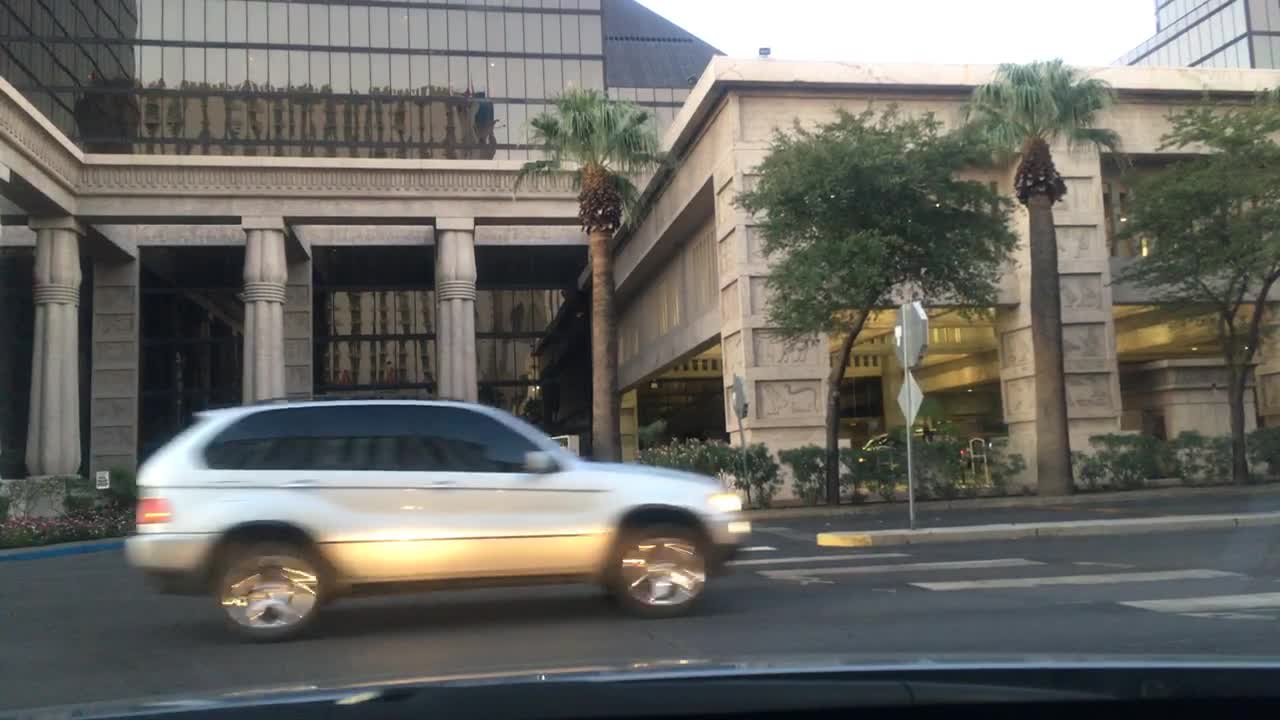car: (123, 391, 753, 642), (860, 431, 971, 478), (987, 436, 1012, 465)
traffic sign: (892, 299, 930, 368), (895, 370, 926, 426), (730, 370, 750, 418)
